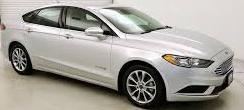Cars: (2, 5, 235, 109)
